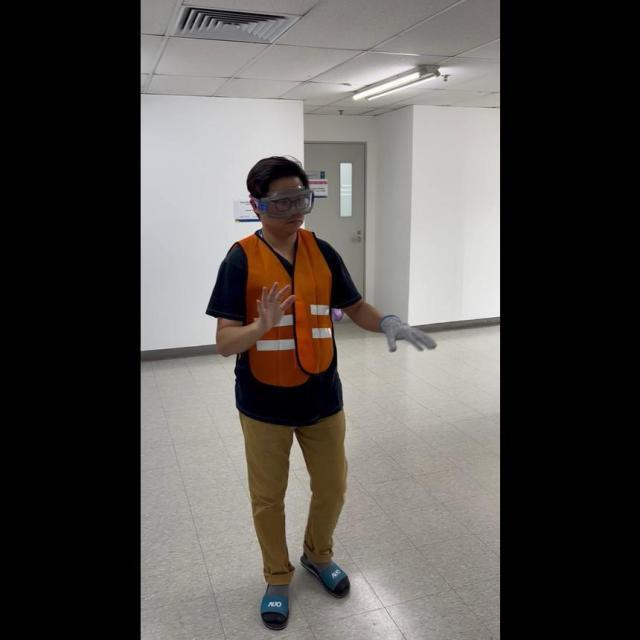bare_hand: (249, 276, 299, 336)
gloved_hand: (376, 308, 435, 356)
